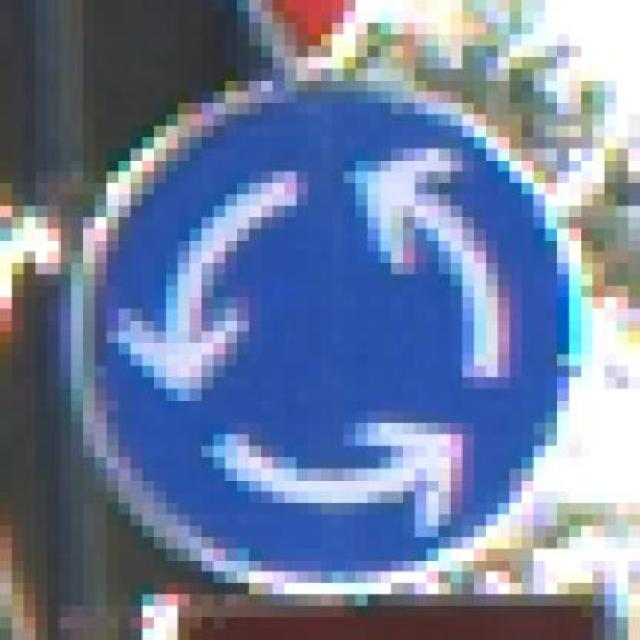Round-About: (35, 69, 592, 606)
